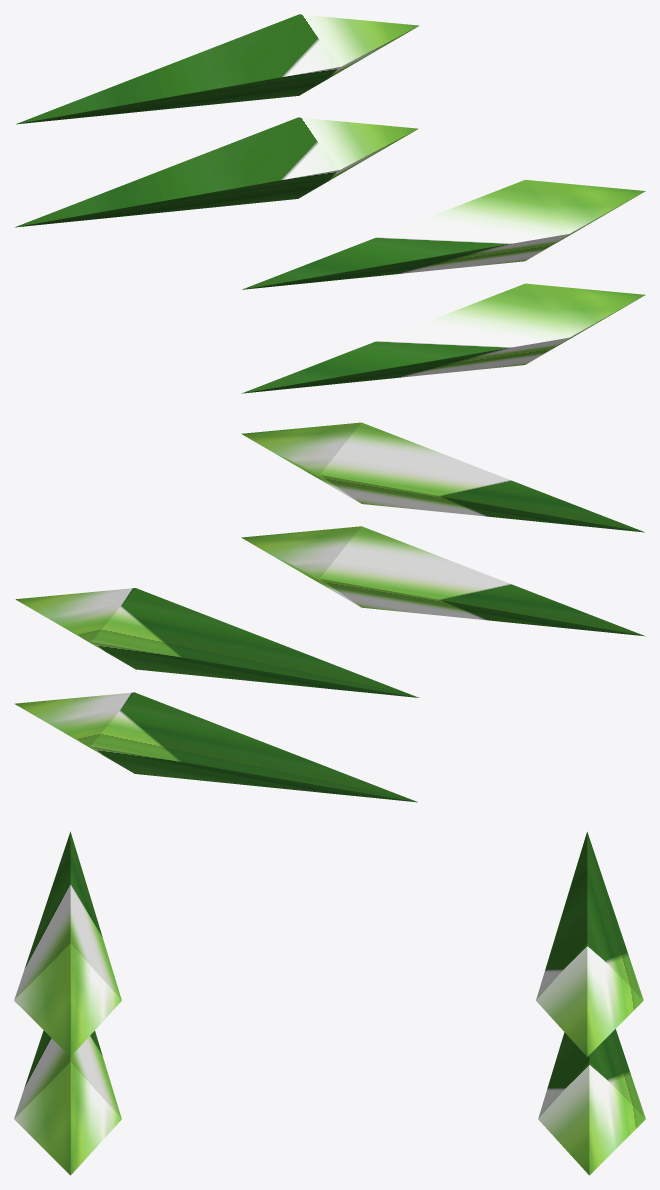
File: laserQuad01.obj
3 renders of one model, top to bottom at view 1: azimuth 30°, elevation 25°; view 2: azimuth 150°, elevation 25°; view 3: azimuth 270°, elevation 25°, orthographic. The views are drawn at different scales.
Visible parts, largest first — view 1: Laser02, Laser01; view 2: Laser01, Laser02; view 3: Laser01, Laser02.
Boxes of the visible parts, x1,y1,x2,y2 form: Laser02: (15, 117, 645, 393); Laser01: (16, 14, 645, 289); Laser01: (15, 422, 644, 697); Laser02: (14, 526, 645, 802); Laser01: (14, 831, 643, 1056); Laser02: (14, 1029, 645, 1175).
Size of the model in its own units: 2.16 by 0.9455 by 2.56.
1 material, 1 textured.
